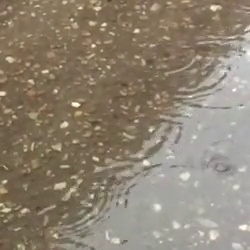drop: (160, 52, 197, 76), (207, 156, 232, 177)
